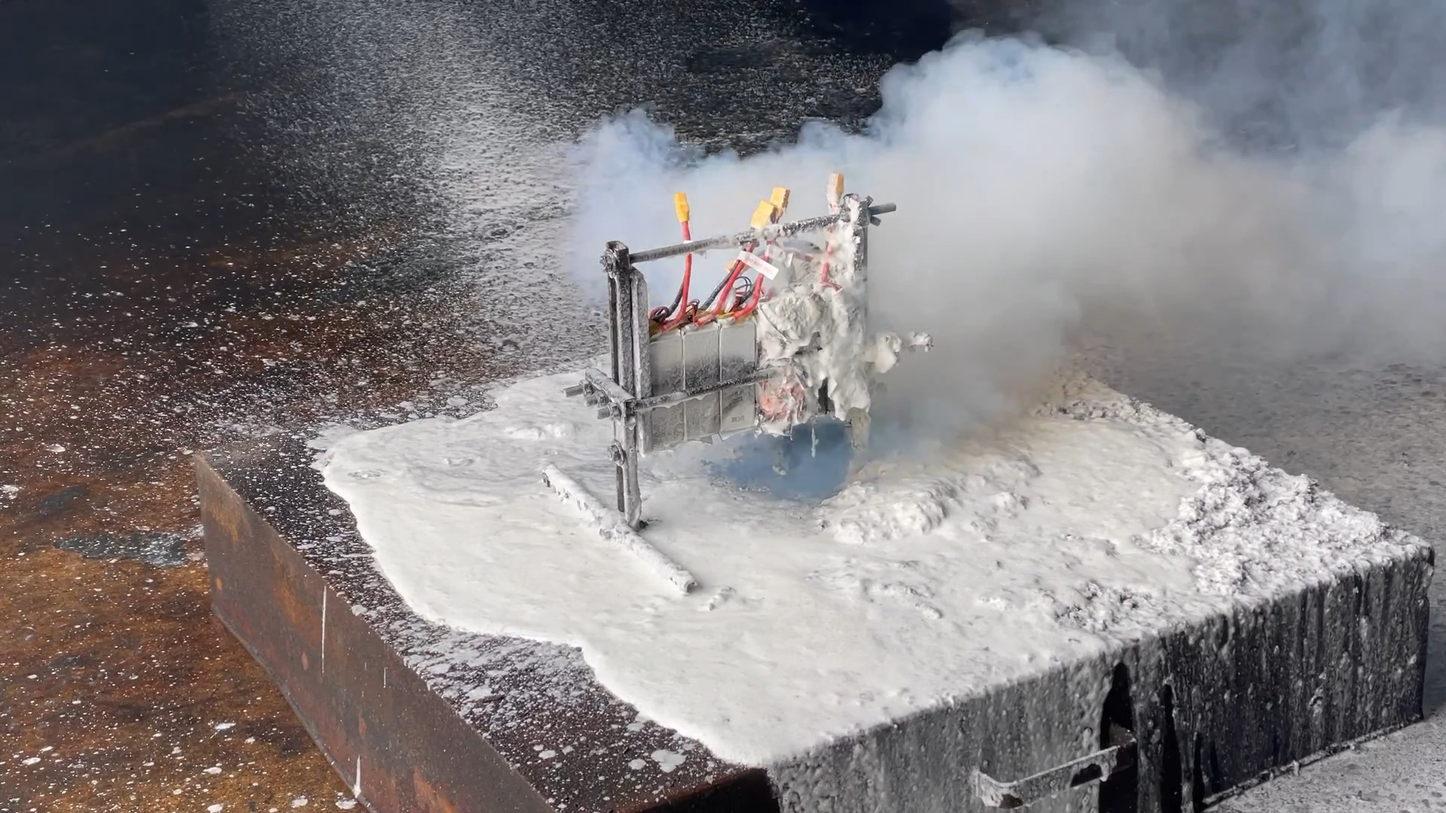smoke: (547, 0, 1446, 428)
